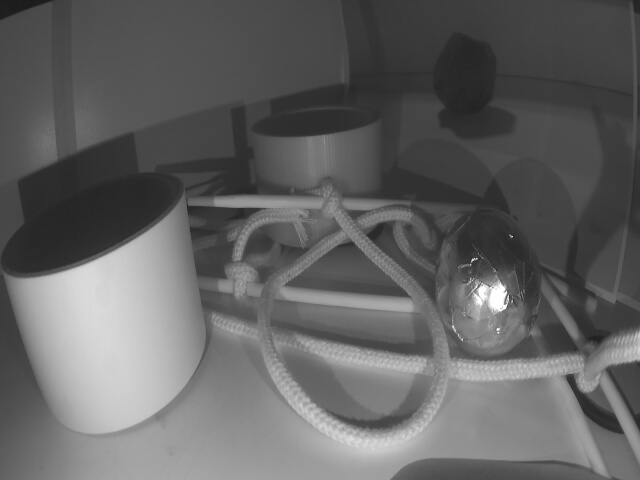Live: (433, 207, 541, 357)
